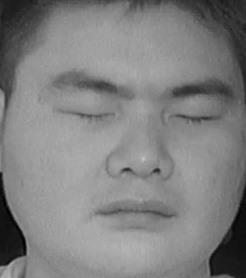blink: (61, 95, 118, 131), (174, 99, 218, 131)
mouth: (92, 189, 177, 235)
